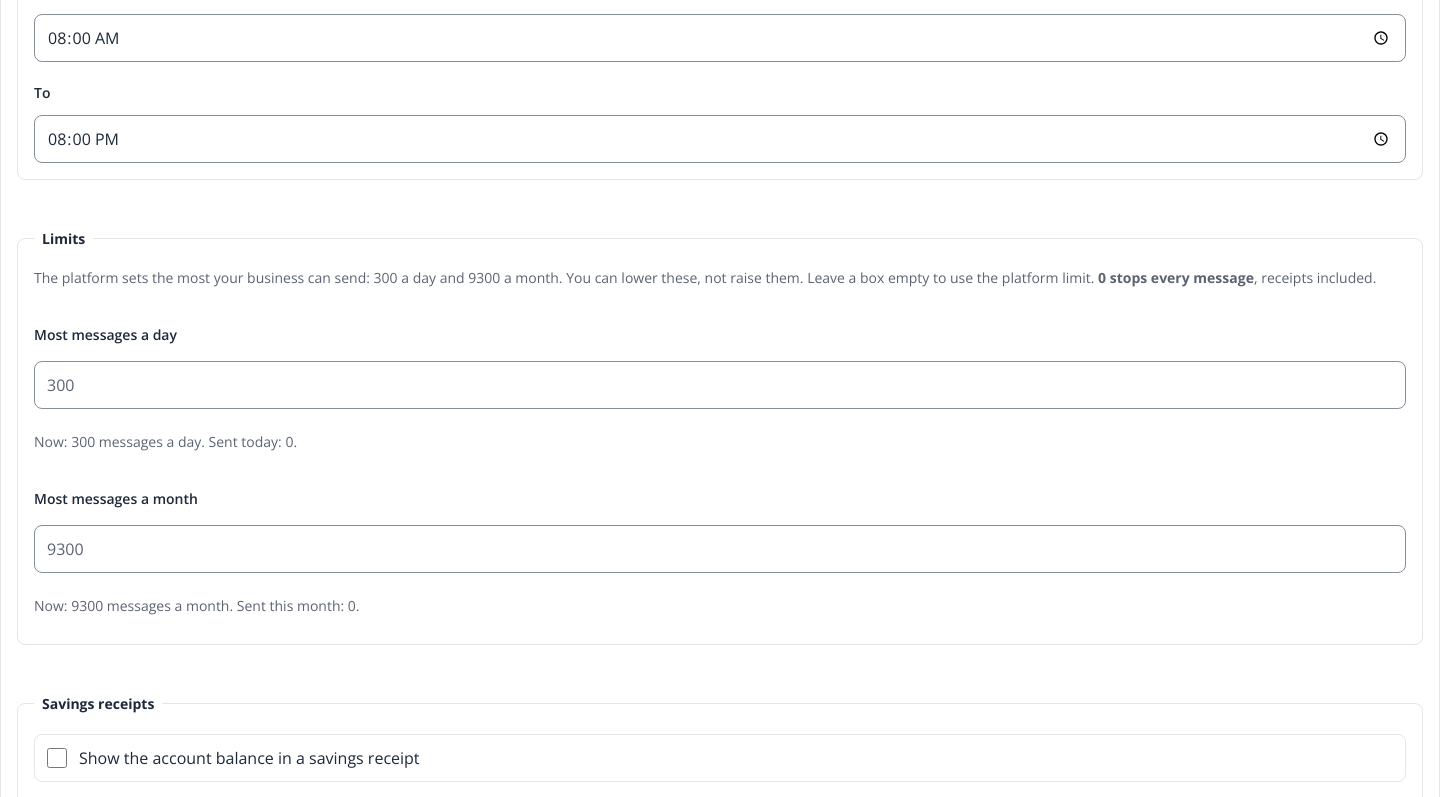
Test: the settings form › says so, and loads the latest, when someone else saved first
(page scrolled)
Type "50" into the field labelled "Most messages a day" at (720, 385), box [34,361,1406,409]
(page scrolled)
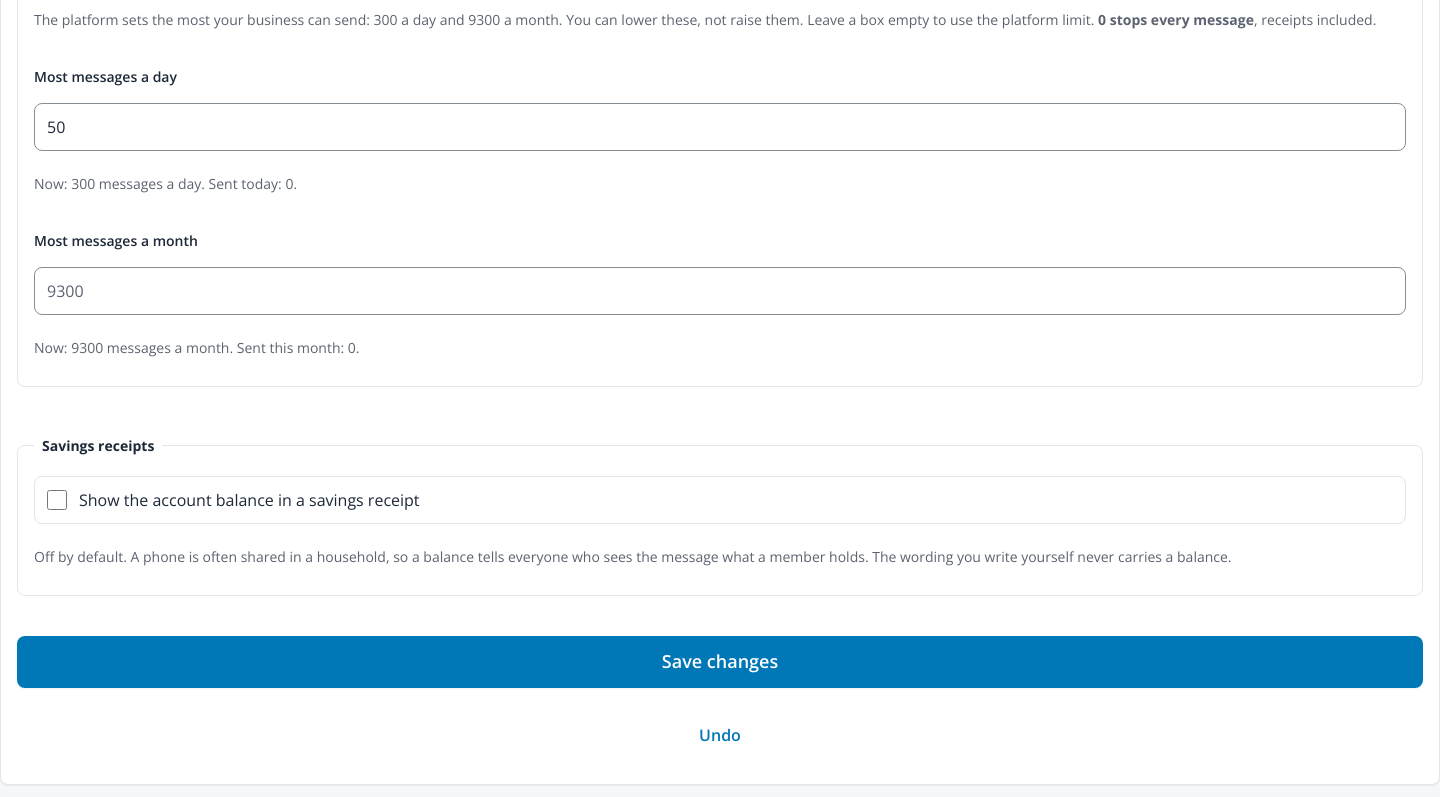
Click the button "Save changes" at (720, 662), box [17,636,1423,688]
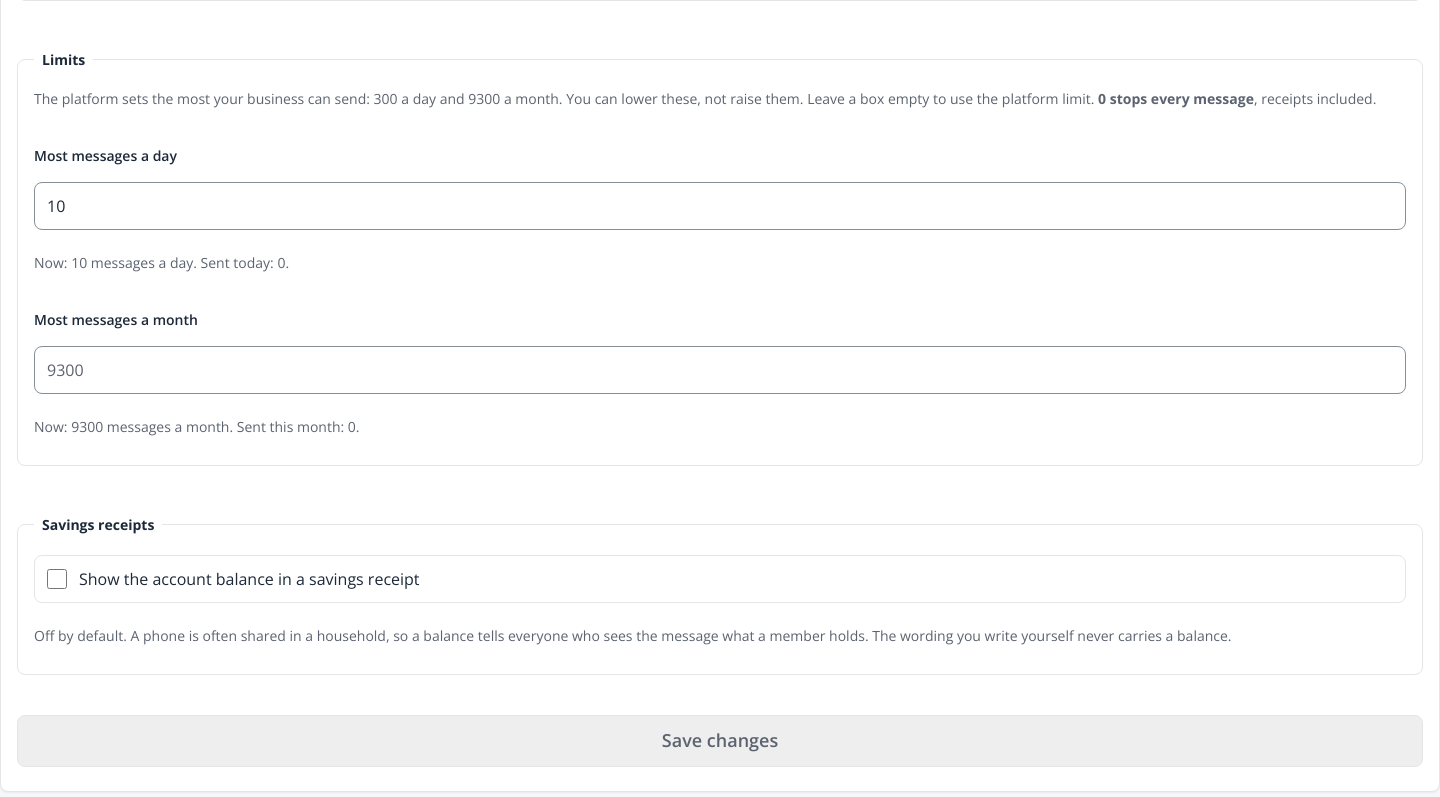
Expected: the field labelled "Most messages a day" holds "10", [34,182,1406,230]
